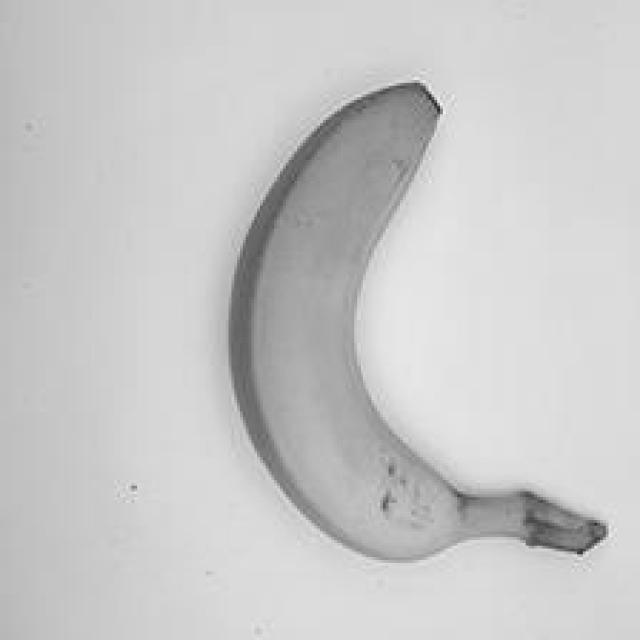Unripe: (226, 57, 617, 584)
